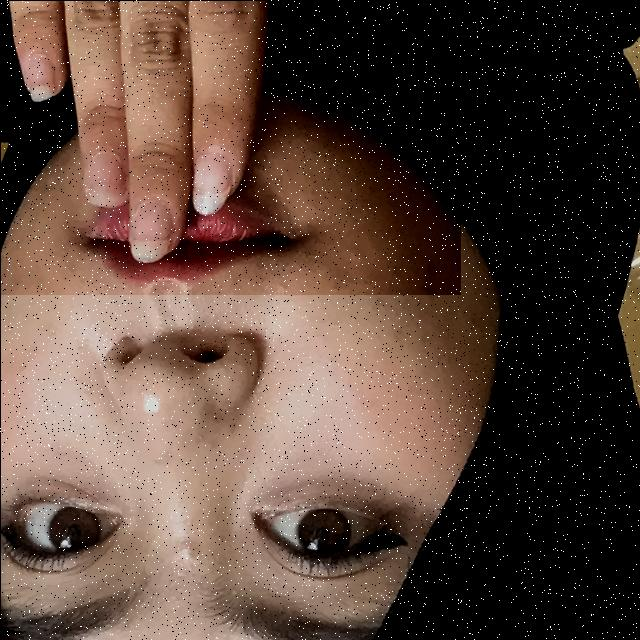ganteng: (0, 0, 460, 294)
